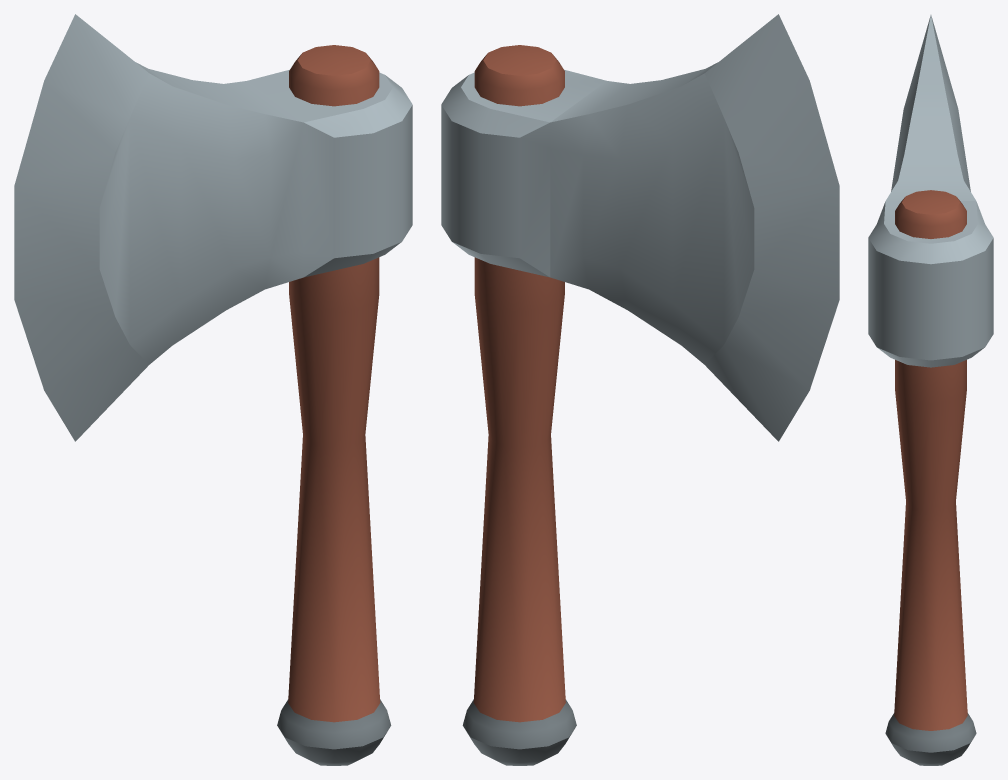
The model's file is kaykit-axe-uncommon.glb.
3 renders of one model, left to right at view 1: azimuth 30°, elevation 25°; view 2: azimuth 150°, elevation 25°; view 3: azimuth 270°, elevation 25°, orthographic. The views are drawn at different scales.
Visible parts, largest first — view 1: axe_uncommon; view 2: axe_uncommon; view 3: axe_uncommon.
Boxes of the visible parts, box(x1,y1,x2,y2) form: axe_uncommon: box(14, 14, 412, 765); axe_uncommon: box(441, 14, 839, 765); axe_uncommon: box(868, 15, 993, 765).
Size of the model in its own units: 0.4807 by 0.9528 by 0.1685.
